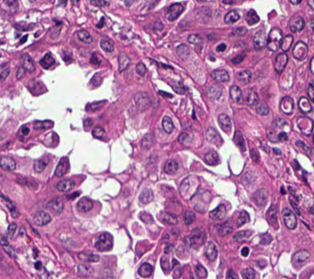nucleus: (179, 176, 199, 199), (184, 228, 204, 248), (1, 194, 18, 217), (266, 28, 281, 50), (95, 232, 112, 250), (134, 91, 150, 110), (206, 127, 222, 145), (54, 157, 68, 176), (274, 52, 287, 72), (1, 236, 14, 256), (209, 204, 225, 220), (253, 30, 266, 49), (218, 113, 231, 132), (204, 241, 217, 260), (266, 205, 277, 227), (47, 198, 63, 213), (28, 80, 45, 94), (204, 150, 219, 165), (252, 189, 266, 205), (34, 211, 50, 225), (85, 100, 105, 111), (233, 131, 244, 151), (56, 179, 74, 191), (159, 212, 177, 224), (40, 53, 54, 68), (0, 156, 15, 170), (33, 158, 48, 172), (139, 188, 153, 203), (77, 197, 92, 211), (22, 54, 34, 71), (211, 69, 228, 81), (230, 85, 242, 102), (207, 85, 221, 99), (164, 160, 178, 174), (138, 263, 152, 277), (77, 29, 92, 42), (176, 44, 189, 59), (141, 133, 153, 149), (77, 264, 93, 276), (17, 178, 36, 188), (78, 252, 99, 261), (118, 54, 129, 71), (162, 116, 173, 133), (233, 230, 250, 241), (237, 70, 251, 83), (246, 90, 258, 105), (236, 211, 248, 226), (34, 120, 52, 129), (100, 39, 113, 51), (172, 81, 185, 93), (256, 102, 268, 115), (178, 132, 191, 144), (183, 210, 194, 224), (139, 212, 153, 223), (195, 264, 206, 278), (0, 63, 9, 80), (161, 254, 170, 271), (92, 126, 104, 138), (218, 224, 231, 235), (242, 267, 254, 278), (91, 73, 101, 86), (260, 233, 271, 244), (90, 53, 100, 65), (267, 129, 277, 141), (188, 34, 201, 43), (136, 62, 145, 75), (16, 66, 25, 79), (7, 223, 16, 236), (250, 149, 258, 161), (173, 264, 180, 277), (83, 118, 92, 128), (20, 125, 29, 135), (232, 55, 243, 63), (67, 191, 79, 198), (227, 270, 237, 278), (159, 91, 172, 97), (217, 43, 225, 51), (241, 247, 248, 256), (20, 35, 26, 43), (273, 148, 280, 154), (35, 261, 40, 269)
